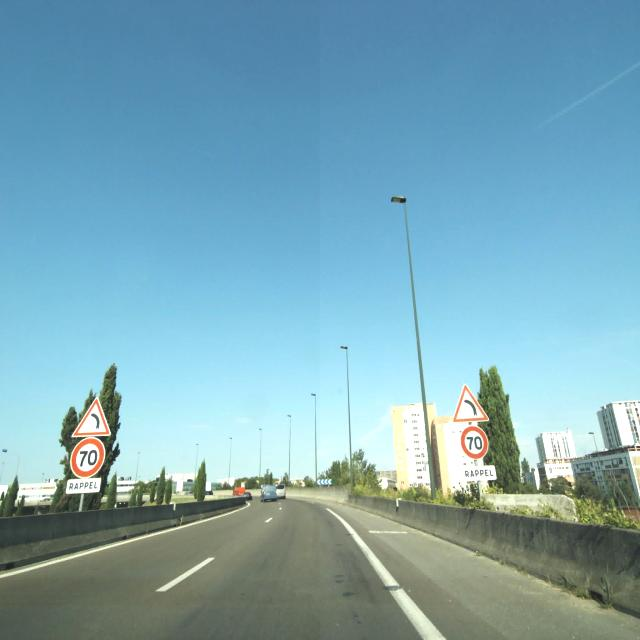car: (260, 484, 278, 502), (275, 483, 287, 498)
